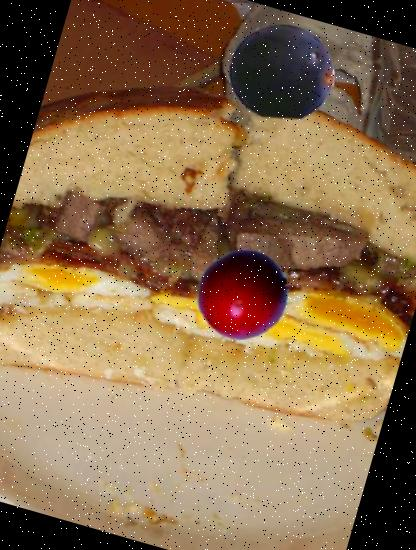Grape: (216, 6, 348, 137)
Tamarillo: (185, 237, 299, 351)
